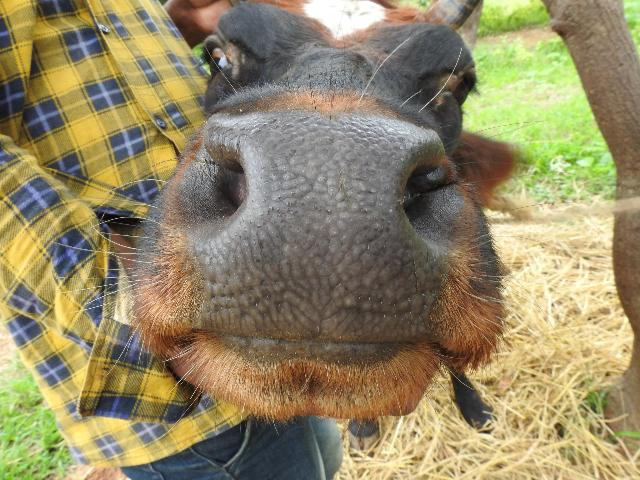Muzzle: (238, 124, 402, 342)
